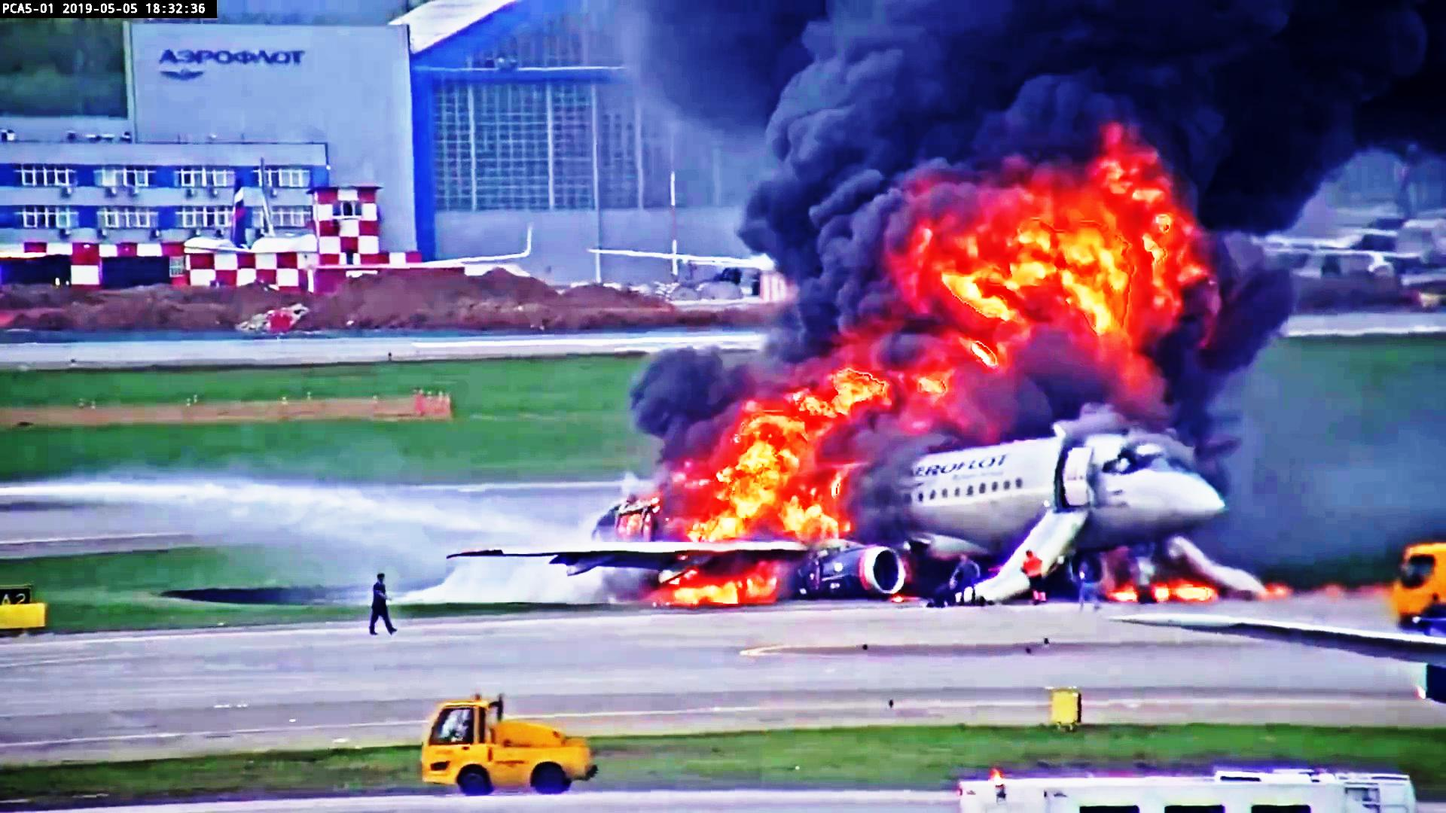fire: (772, 0, 1446, 143), (693, 384, 870, 531), (1010, 177, 1162, 309), (684, 562, 778, 608)
